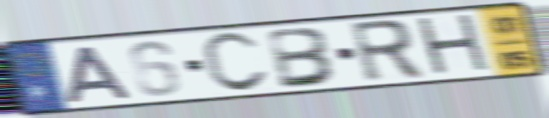6: (127, 39, 183, 99)
A: (63, 43, 137, 106)
B: (265, 25, 341, 91)
C: (199, 29, 273, 95)
H: (412, 11, 495, 80)
R: (345, 17, 428, 85)
